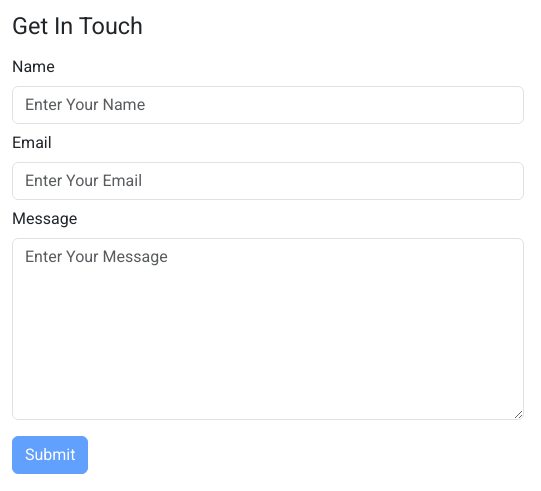
Test: GetInTouch › has the submit button in enabled state when fisrtName is not empty
Type "yasin" into the field labelled "Name". click: (268, 105)
box: x1=12 y1=86 x2=524 y2=124
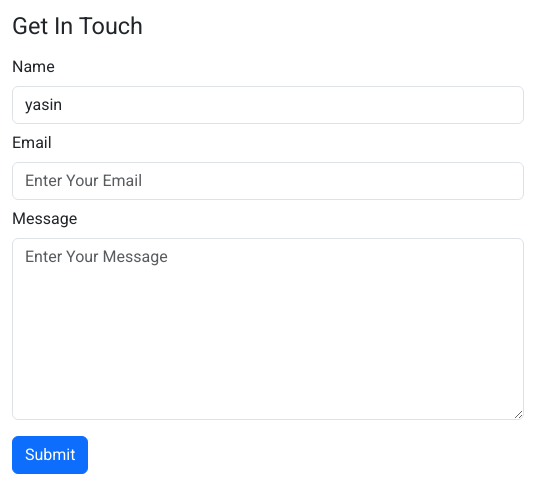
Result: the button is enabled at x1=12 y1=436 x2=88 y2=474
